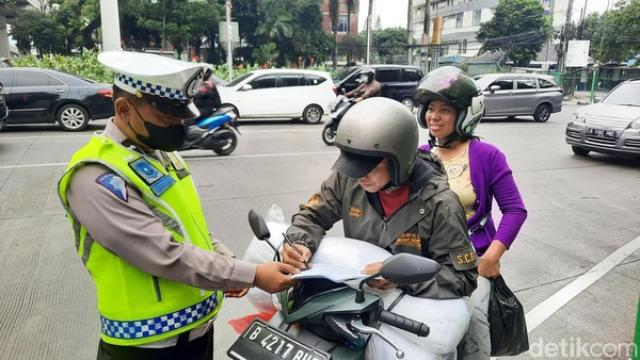helm: (333, 98, 421, 195), (419, 69, 488, 144)
motor: (227, 209, 500, 360)
